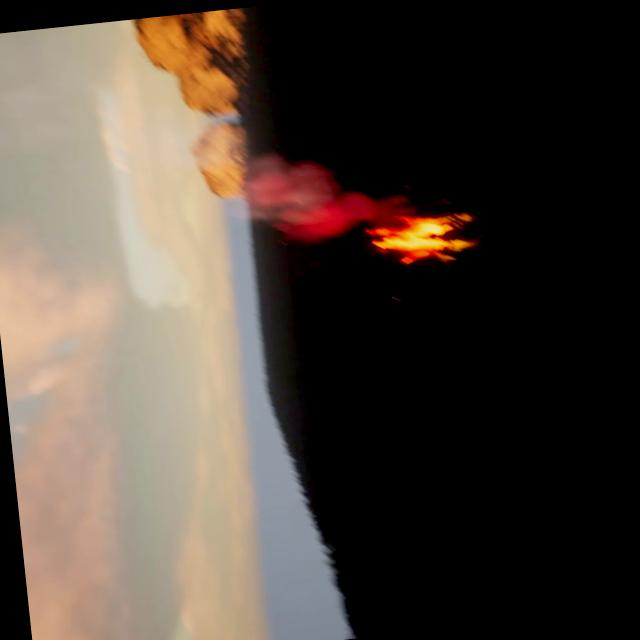fire: (364, 209, 464, 269)
smoke: (229, 145, 400, 245)
